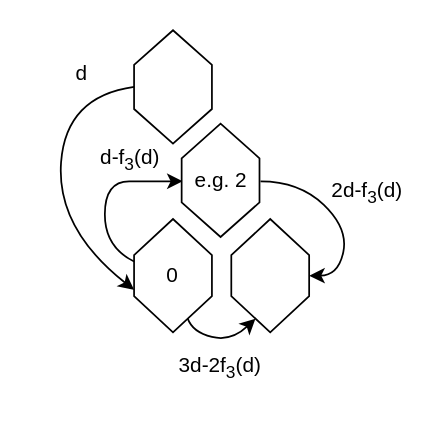
This 448x424 diagram has some shape labels left out. Here are the shapes that lost their labels. From the top down, the centre of each, then its label:
At [172,86]: "e.g. -3".
At [269,274]: "e.g. 7".
